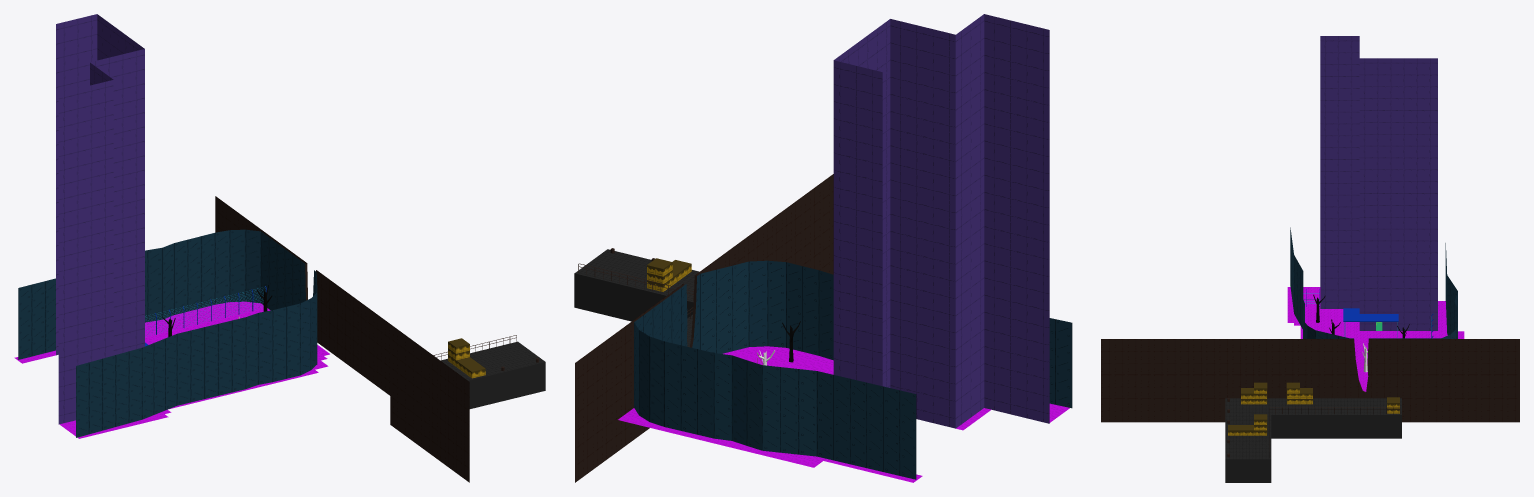
The model's file is house_entrance.glb.
The picture shows the model from 3 angles, left to right: view 1: azimuth 30°, elevation 25°; view 2: azimuth 150°, elevation 25°; view 3: azimuth 270°, elevation 25°; orthographic projection. The views are drawn at different scales.
Visible parts, largest first — view 1: forest_wall, house_outside, dock_wall, forest_floor, dock_wall_underwater, dock_floor, dock_boxes0; view 2: house_outside, forest_wall, dock_wall, forest_floor, dock_wall.017, dock_wall_underwater, dock_floor, dock_boxes0; view 3: house_outside, dock_wall, dock_wall_underwater, dock_floor, forest_floor, forest_wall, small_roof, dock_boxes0, dock_boxes1, dock_boxes2.
Part boxes in pixels (x1,y1,x2,y2): forest_wall: (18, 229, 317, 437); house_outside: (56, 14, 144, 424); dock_wall: (215, 196, 469, 482); forest_floor: (14, 301, 329, 438); dock_wall_underwater: (468, 362, 545, 408); dock_floor: (440, 341, 545, 380); dock_boxes0: (448, 338, 485, 378); house_outside: (833, 14, 1049, 428); forest_wall: (634, 260, 1072, 479); dock_wall: (575, 174, 833, 482); forest_floor: (618, 346, 1069, 482); dock_wall.017: (700, 265, 732, 353); dock_wall_underwater: (574, 273, 693, 321); dock_floor: (575, 249, 699, 347); dock_boxes0: (647, 258, 691, 291); house_outside: (1320, 36, 1437, 330); dock_wall: (1101, 339, 1519, 422); dock_wall_underwater: (1225, 415, 1401, 482); dock_floor: (1225, 398, 1401, 459); forest_floor: (1287, 287, 1464, 391); forest_wall: (1290, 227, 1457, 338); small_roof: (1343, 308, 1398, 337); dock_boxes0: (1228, 414, 1267, 435); dock_boxes1: (1241, 382, 1267, 404); dock_boxes2: (1286, 382, 1312, 404).
Size of what is drawn, in the model's own units: 62.52 by 50 by 64.
15 materials, 15 textured.
